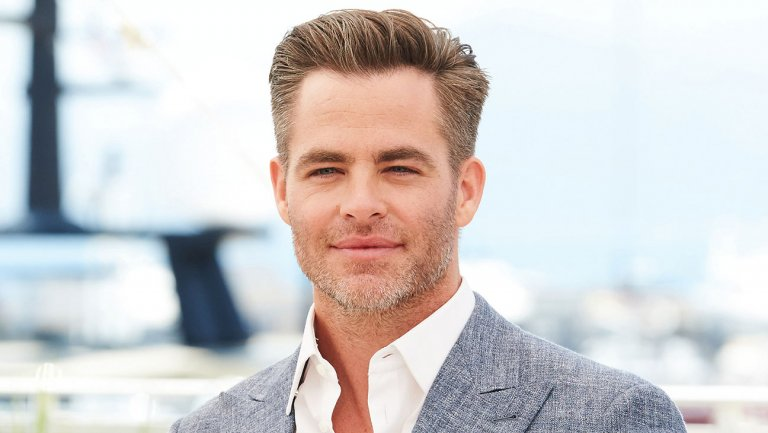bare: (281, 191, 457, 316)
